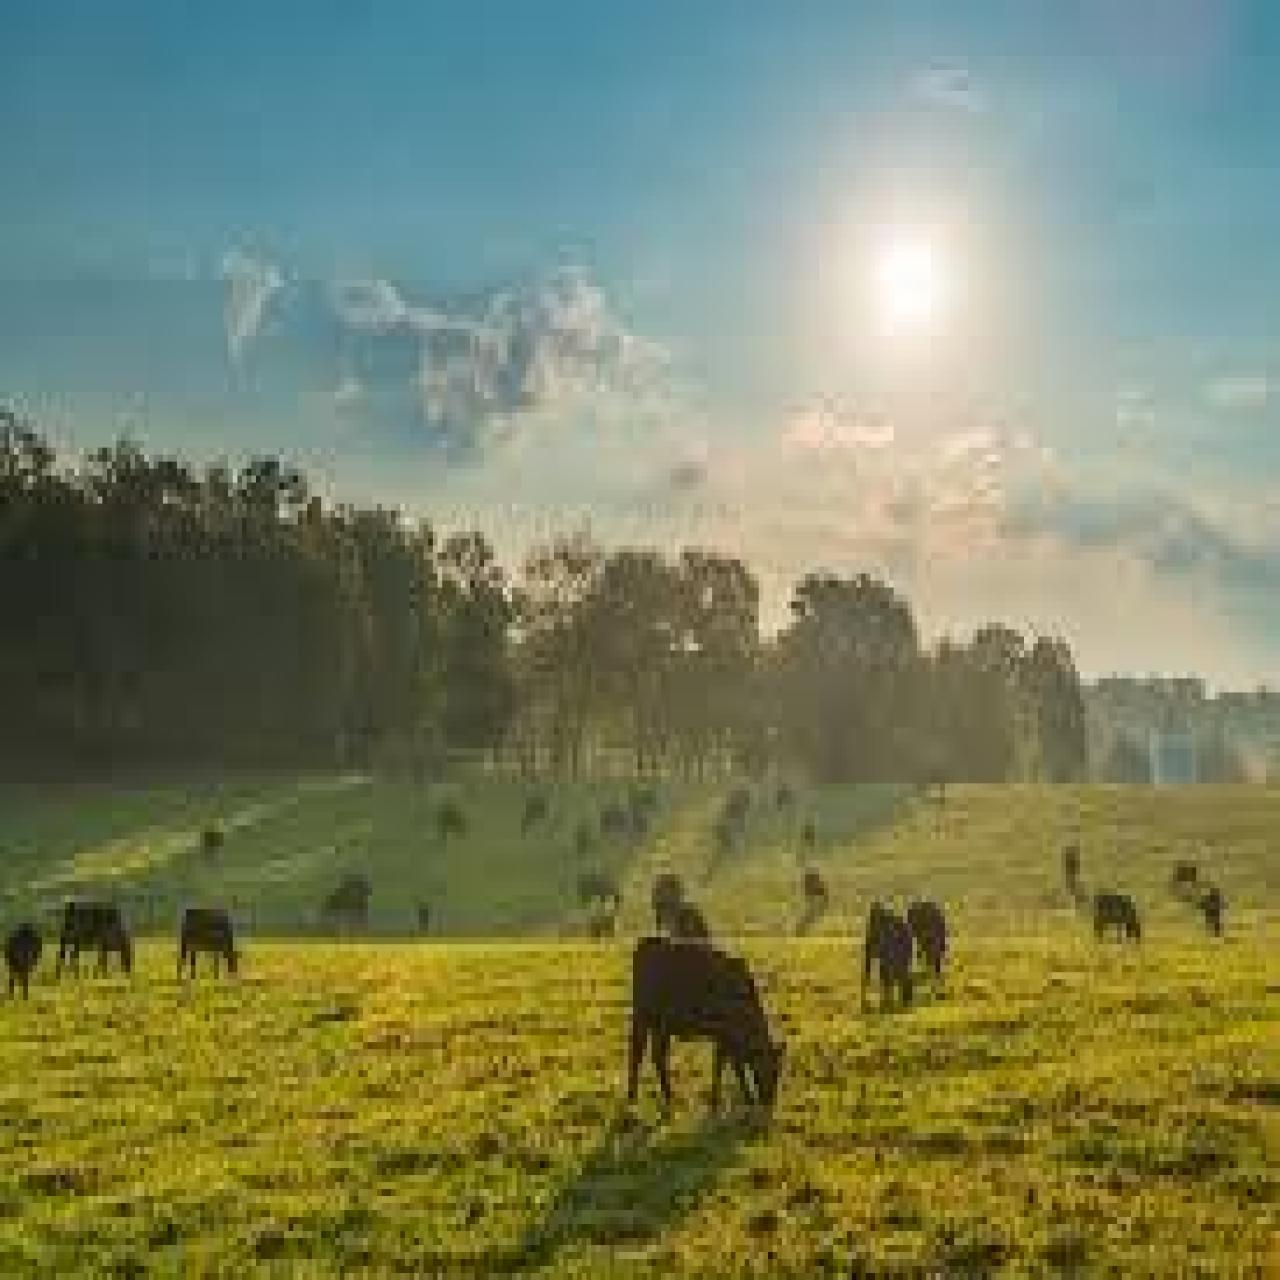cow: (624, 940, 791, 1109), (57, 899, 137, 976), (864, 908, 919, 1014), (172, 906, 247, 976), (309, 871, 374, 927), (7, 924, 49, 994), (914, 892, 952, 969), (649, 871, 692, 934), (1087, 892, 1143, 934), (798, 857, 840, 906), (580, 867, 626, 910), (1199, 885, 1231, 934), (1171, 850, 1207, 892)
